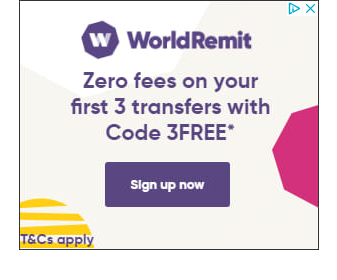fake_button: (97, 152, 241, 215)
